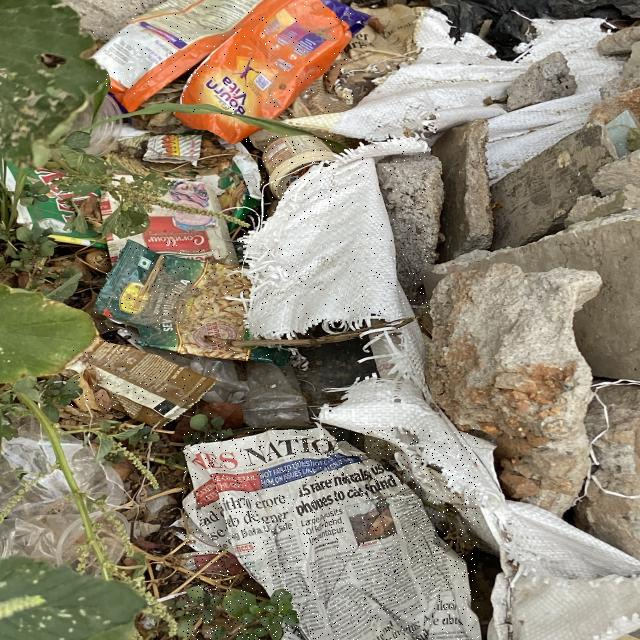paper: (182, 429, 479, 640)
plastic: (244, 138, 429, 338), (262, 135, 337, 199)
wrapper: (93, 0, 353, 117), (94, 240, 275, 361), (70, 341, 214, 426)
